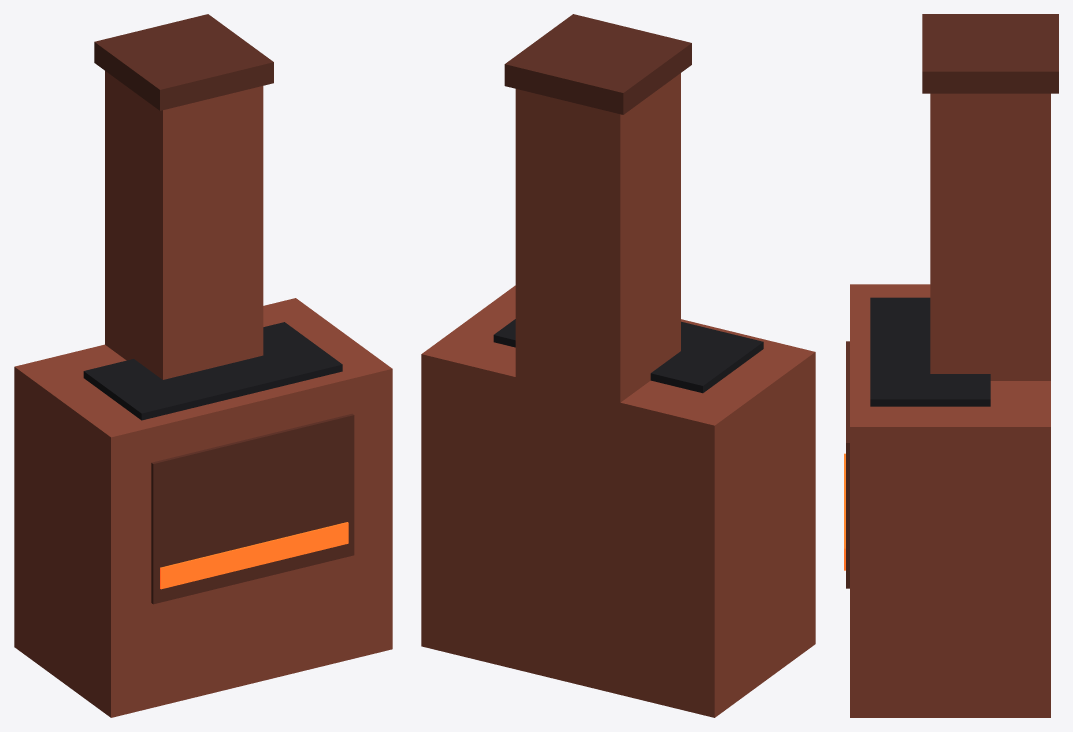
File: mod-churrasqueira.gltf
3 views of the same model, side by side, from view 1: azimuth 30°, elevation 25°; view 2: azimuth 150°, elevation 25°; view 3: azimuth 270°, elevation 25° (orthographic). The views are drawn at different scales.
Parts seen in each view (by area): view 1: mod-churrasqueira; view 2: mod-churrasqueira; view 3: mod-churrasqueira.
Part boxes in pixels (x1,y1,x2,y2): mod-churrasqueira: (14, 14, 392, 717); mod-churrasqueira: (421, 14, 815, 717); mod-churrasqueira: (844, 14, 1058, 717).
Size of the model in its own units: 0.84 by 1.66 by 0.535.
